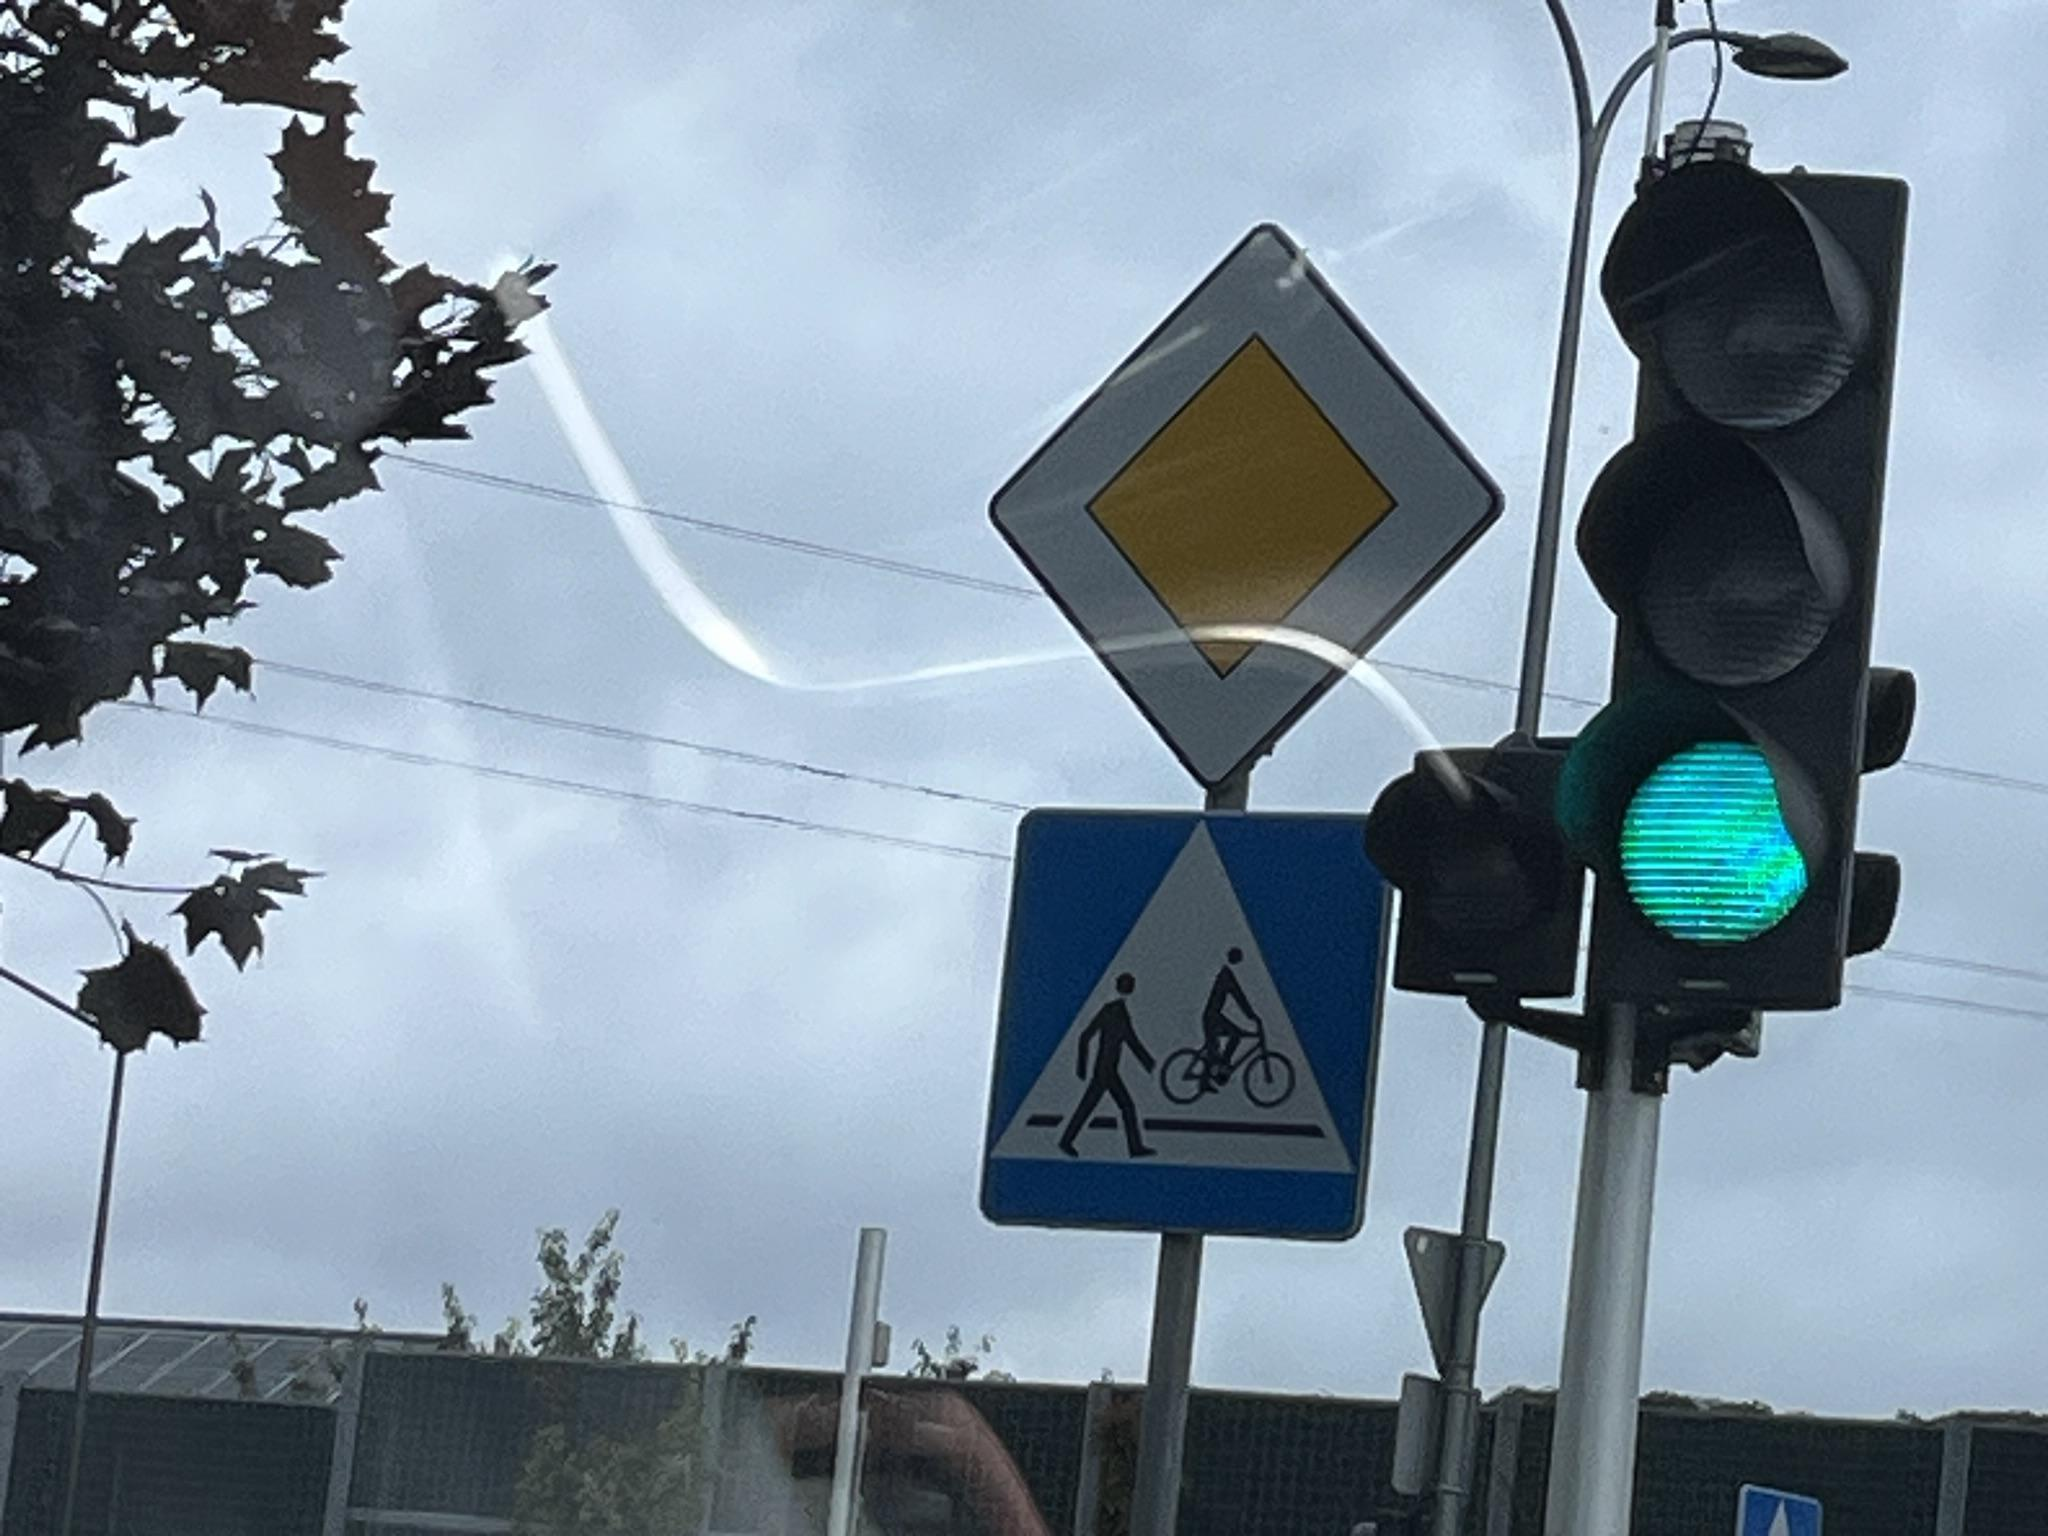information: (984, 216, 1508, 792), (977, 800, 1398, 1252), (1730, 1484, 1830, 1536)
